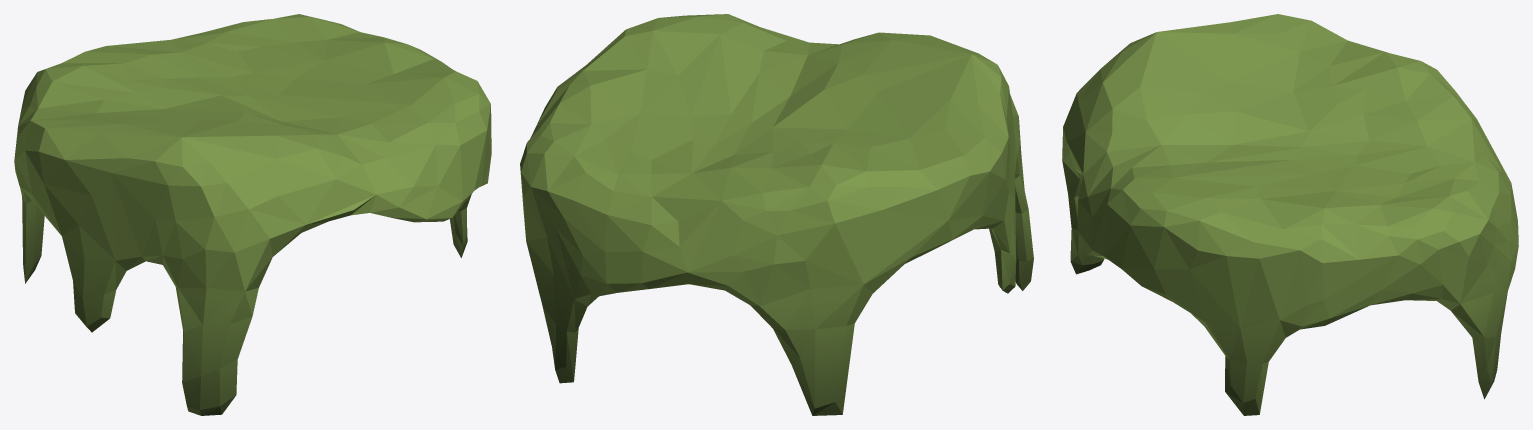
File: Jungle_PlatformRock_Lrg_B_Grass.fbx
3 renders of one model, left to right at view 1: azimuth 30°, elevation 25°; view 2: azimuth 150°, elevation 25°; view 3: azimuth 270°, elevation 25°, orthographic. The views are drawn at different scales.
Visible parts, largest first — view 1: Jungle_PlatformRock_Lrg_B_Grass; view 2: Jungle_PlatformRock_Lrg_B_Grass; view 3: Jungle_PlatformRock_Lrg_B_Grass.
Part boxes in pixels (x1,y1,x2,y2): Jungle_PlatformRock_Lrg_B_Grass: [14, 14, 491, 415]; Jungle_PlatformRock_Lrg_B_Grass: [520, 14, 1033, 415]; Jungle_PlatformRock_Lrg_B_Grass: [1062, 14, 1518, 415].
Size of the model in its own units: 11.02 by 6.42 by 10.46.
1 material, 1 textured.
